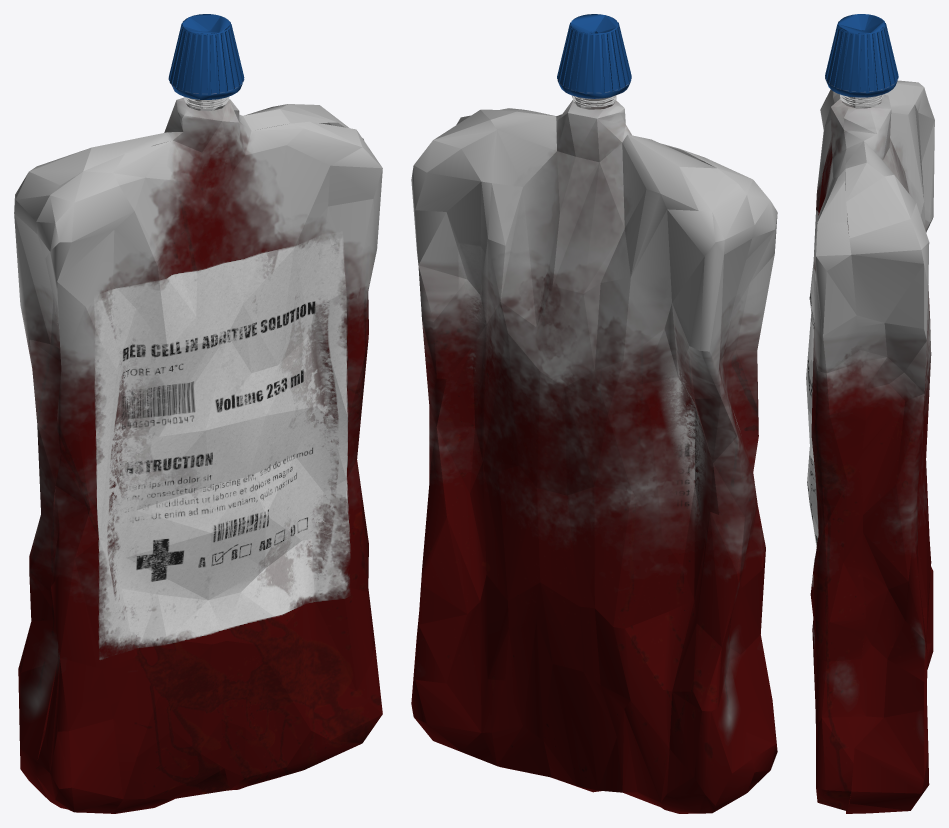
The model's file is blood  bag].fbx.
3 views of the same model, side by side, from view 1: azimuth 30°, elevation 25°; view 2: azimuth 150°, elevation 25°; view 3: azimuth 270°, elevation 25° (orthographic). The views are drawn at different scales.
Visible parts, largest first — view 1: SM_blood_bag_3; view 2: SM_blood_bag_3; view 3: SM_blood_bag_3.
Boxes of the visible parts, box(x1,y1,x2,y2) form: SM_blood_bag_3: box(14, 14, 382, 813); SM_blood_bag_3: box(411, 14, 777, 813); SM_blood_bag_3: box(806, 14, 934, 813).
Bounding box in the file's own units: 71.16 × 161 × 24.91.
1 material, 1 textured.
